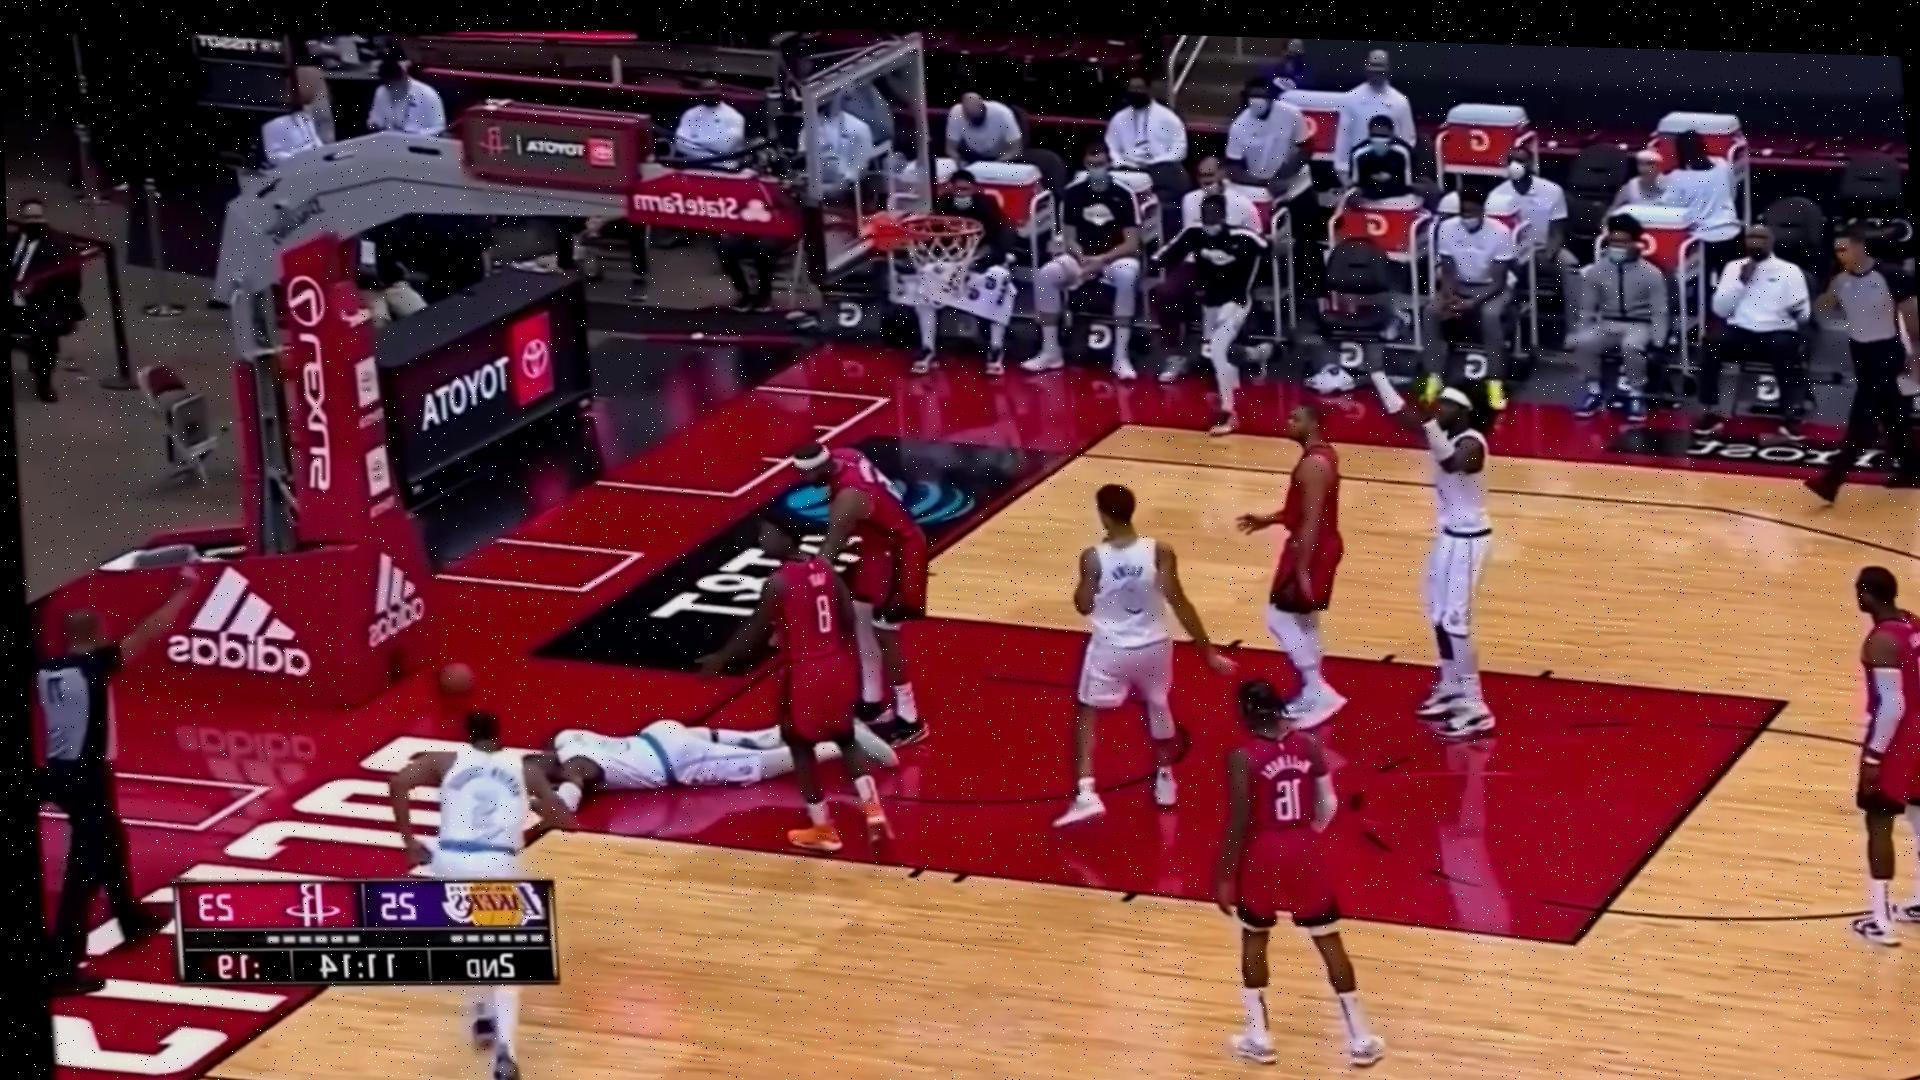foul: (537, 513, 893, 852)
